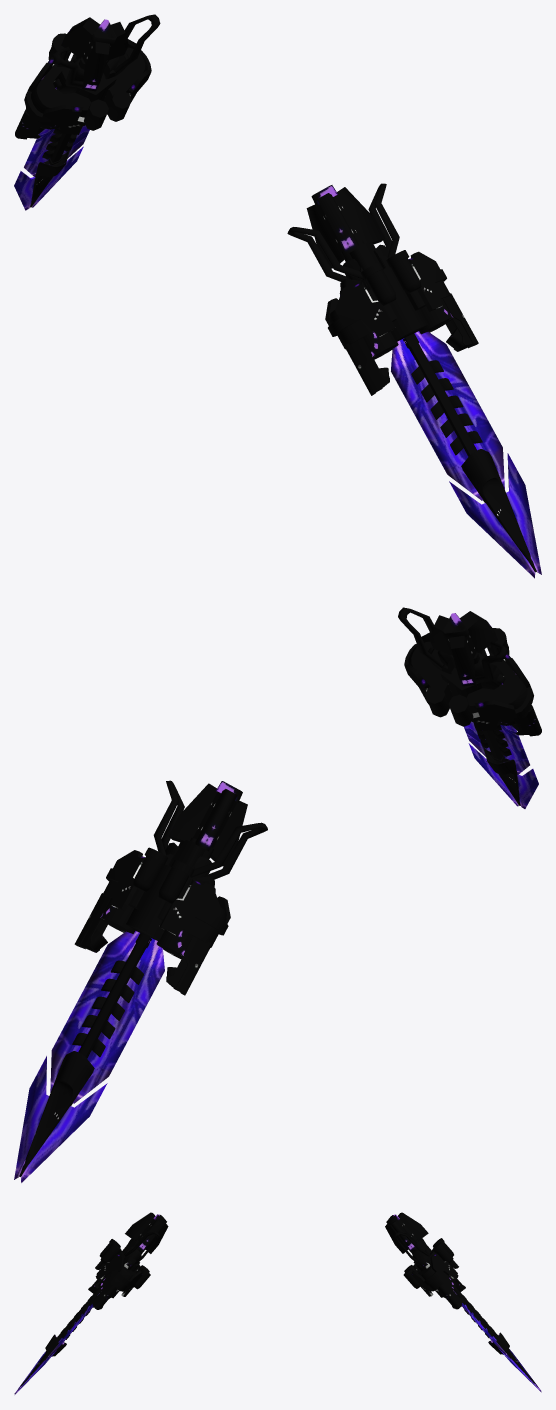
The model's file is vortex_weapons.fbx.
3 renders of one model, top to bottom at view 1: azimuth 30°, elevation 25°; view 2: azimuth 150°, elevation 25°; view 3: azimuth 270°, elevation 25°, orthographic. The views are drawn at different scales.
Parts seen in each view (by area): view 1: WEP_IonBlade_SKEL.mo_R.dmx, WEP_IonBlade_SKEL.mo_L.dmx; view 2: WEP_IonBlade_SKEL.mo_L.dmx, WEP_IonBlade_SKEL.mo_R.dmx; view 3: WEP_IonBlade_SKEL.mo_L.dmx, WEP_IonBlade_SKEL.mo_R.dmx.
Part boxes in pixels (x1,y1,x2,y2): WEP_IonBlade_SKEL.mo_R.dmx: [287, 183, 541, 578]; WEP_IonBlade_SKEL.mo_L.dmx: [14, 14, 160, 210]; WEP_IonBlade_SKEL.mo_L.dmx: [14, 780, 267, 1182]; WEP_IonBlade_SKEL.mo_R.dmx: [398, 607, 541, 808]; WEP_IonBlade_SKEL.mo_L.dmx: [385, 1212, 541, 1392]; WEP_IonBlade_SKEL.mo_R.dmx: [14, 1212, 168, 1394].
Bounding box in the file's own units: 137 × 298 × 877.
